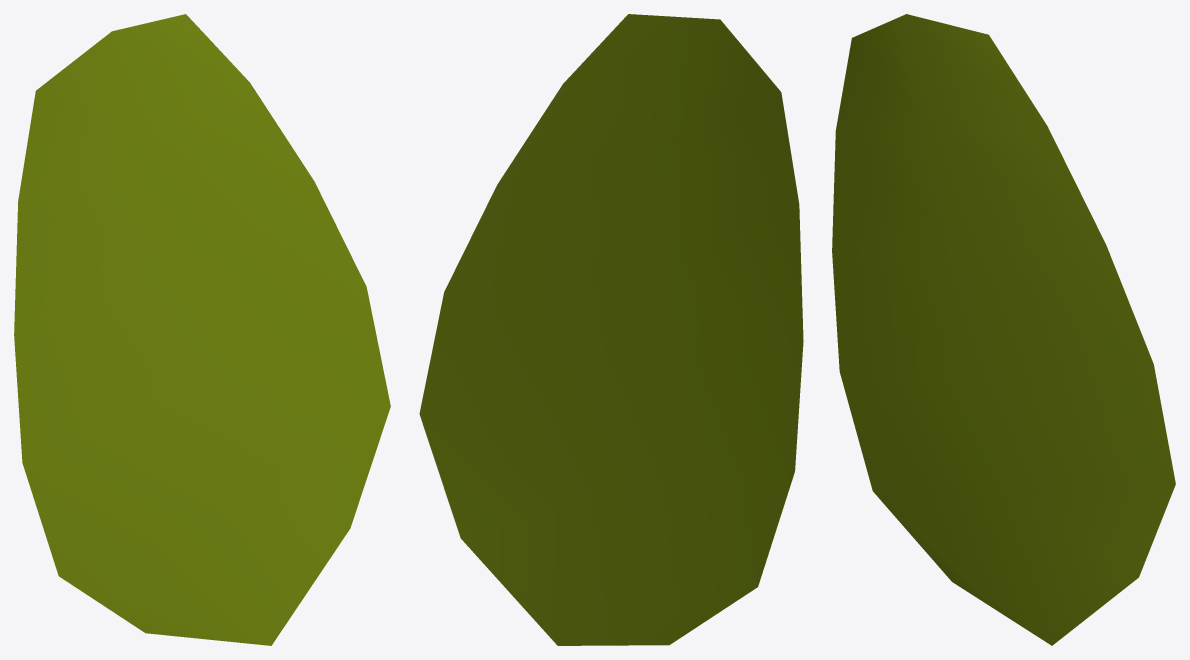
Rendered from lovebird_feather_flight_tertiary_020.obj.
The picture shows the model from 3 angles, left to right: view 1: azimuth 30°, elevation 25°; view 2: azimuth 150°, elevation 25°; view 3: azimuth 330°, elevation 25°; orthographic projection. The views are drawn at different scales.
Visible parts, largest first — view 1: feather_flight_tertiary_020; view 2: feather_flight_tertiary_020; view 3: feather_flight_tertiary_020.
Boxes of the visible parts, x1,y1,x2,y2 form: feather_flight_tertiary_020: (14,14,390,645); feather_flight_tertiary_020: (419,14,803,645); feather_flight_tertiary_020: (832,14,1175,645).
Size of the model in its own units: 0.00427 by 0.00707 by 0.00016.
